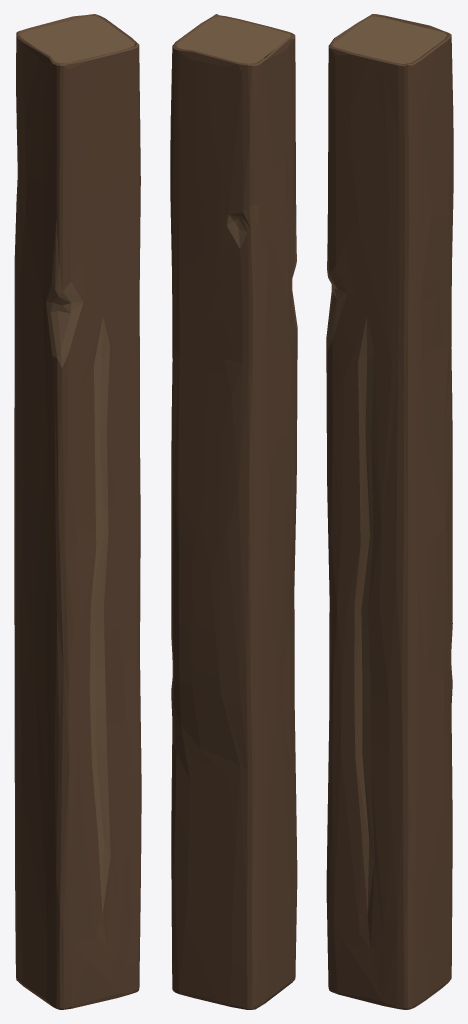
The model's file is SM_Pillar_01.glb.
The picture shows the model from 3 angles, left to right: view 1: azimuth 30°, elevation 25°; view 2: azimuth 150°, elevation 25°; view 3: azimuth 330°, elevation 25°; orthographic projection.
Visible parts, largest first — view 1: SM_Pillar_01; view 2: SM_Pillar_01; view 3: SM_Pillar_01.
Boxes of the visible parts, <box> form: SM_Pillar_01: <box>14,14,141,1009</box>; SM_Pillar_01: <box>170,14,297,1009</box>; SM_Pillar_01: <box>326,14,453,1009</box>.
Bounding box in the file's own units: 0.3 × 3 × 0.3.
Materials: 1 (1 with a texture image).
